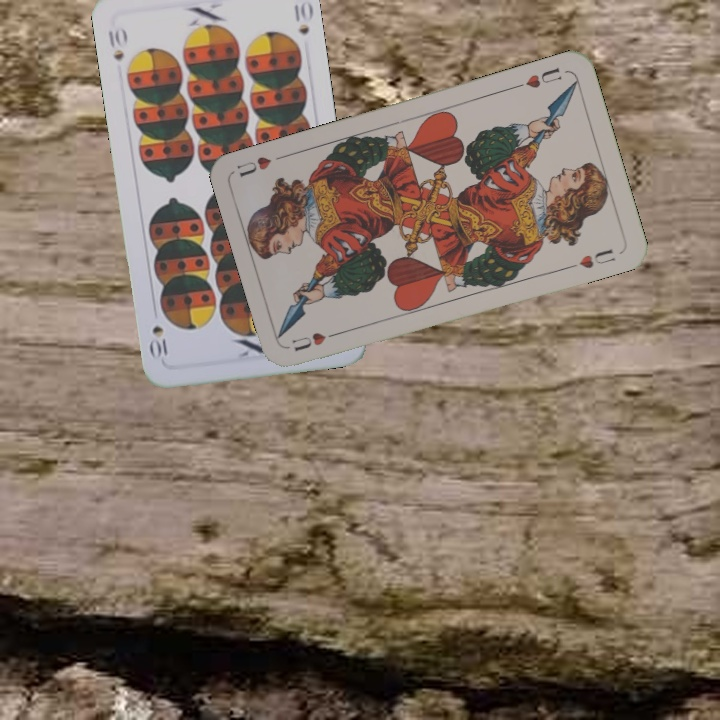HU: (511, 63, 565, 91), (288, 327, 344, 354)
S10: (104, 23, 129, 64)
